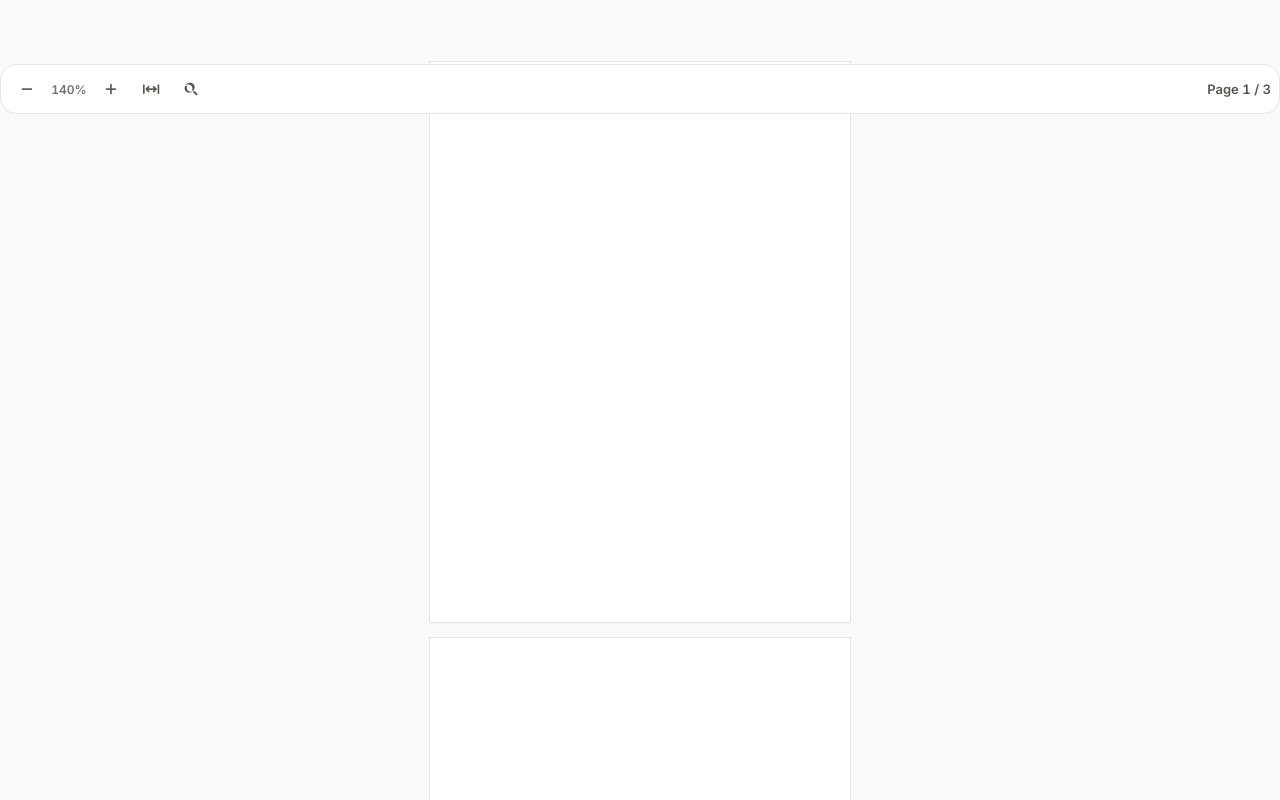
find in this paper (IR-353) › moves to the next match on Enter and back on Shift+Enter, wrapping at the ends
The width and height of the screenshot is (1280, 800).
Expected: the text "Page 1 / 3" is shown, [1207, 80, 1271, 98]
Step 1. Click the button named "Find in this paper" → [191, 89], box [173, 71, 209, 107]
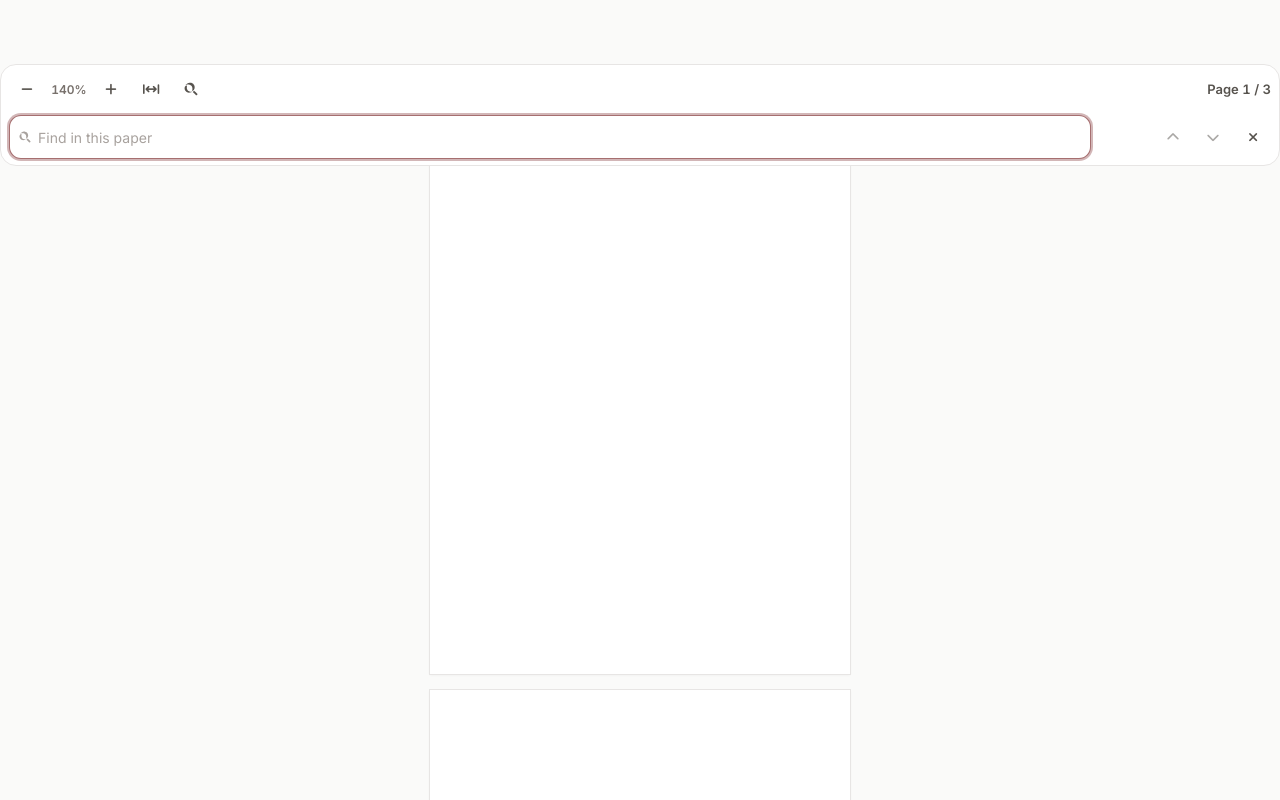
Step 2. Type "robot" into the search field labelled "Find in this paper" → [550, 137], box [9, 115, 1091, 159]
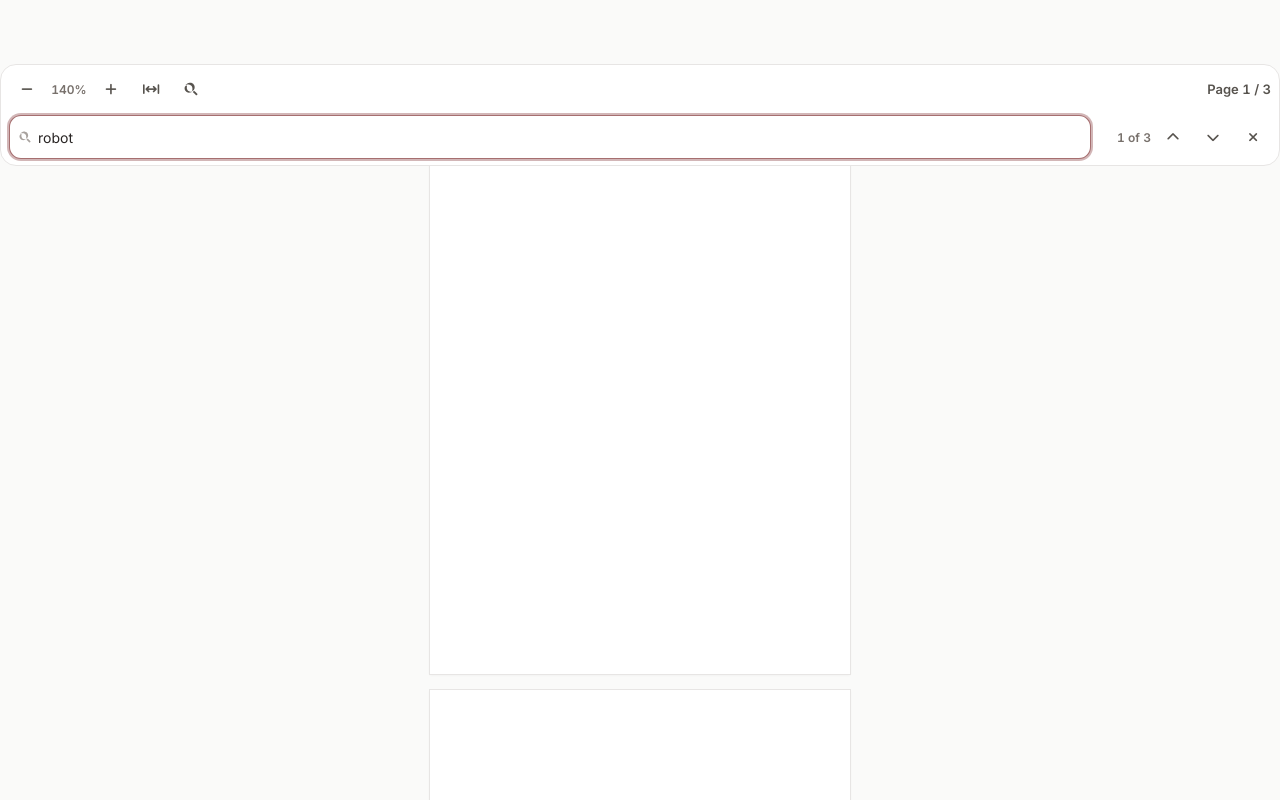
Now the message reads "1 of 3", box [1117, 130, 1151, 144]
Step 3. Press Enter
(page scrolled)
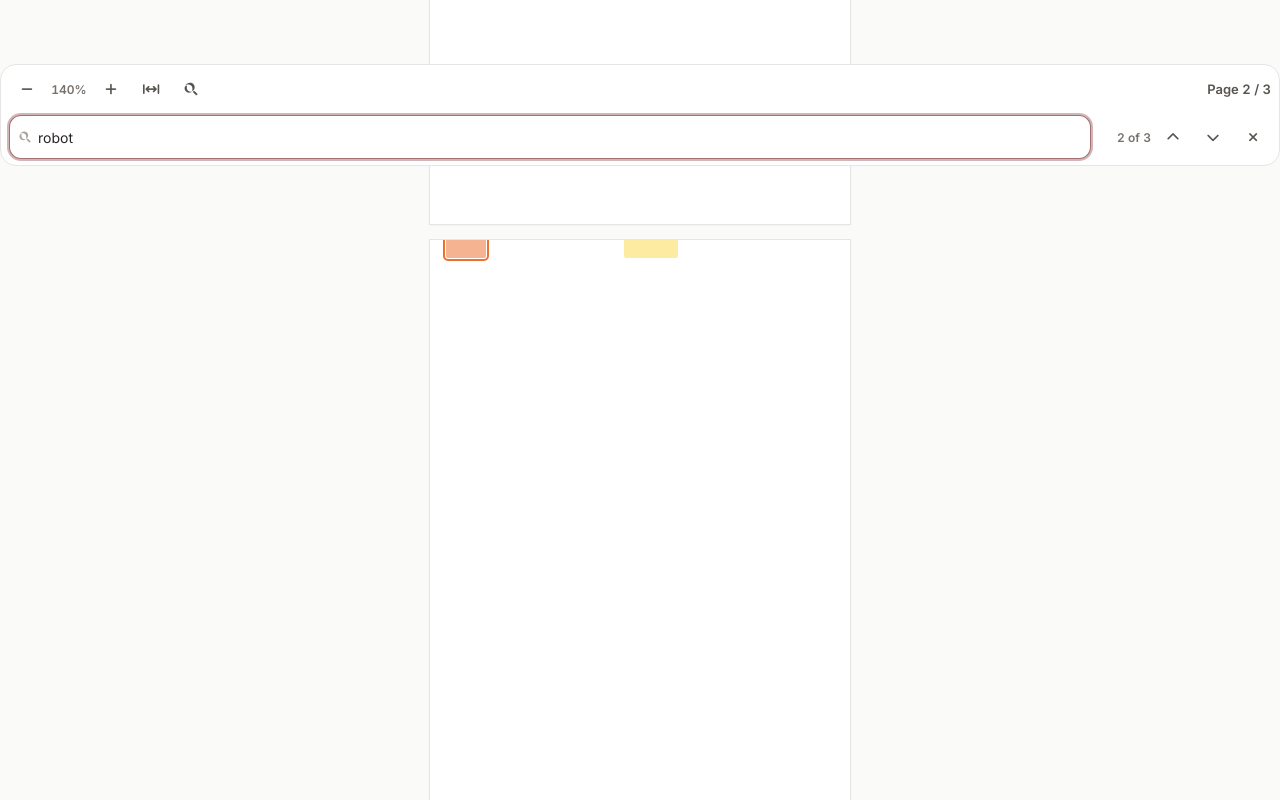
Now the message reads "2 of 3", box [1117, 130, 1151, 144]
Step 4. Press Enter Enter
(page scrolled)
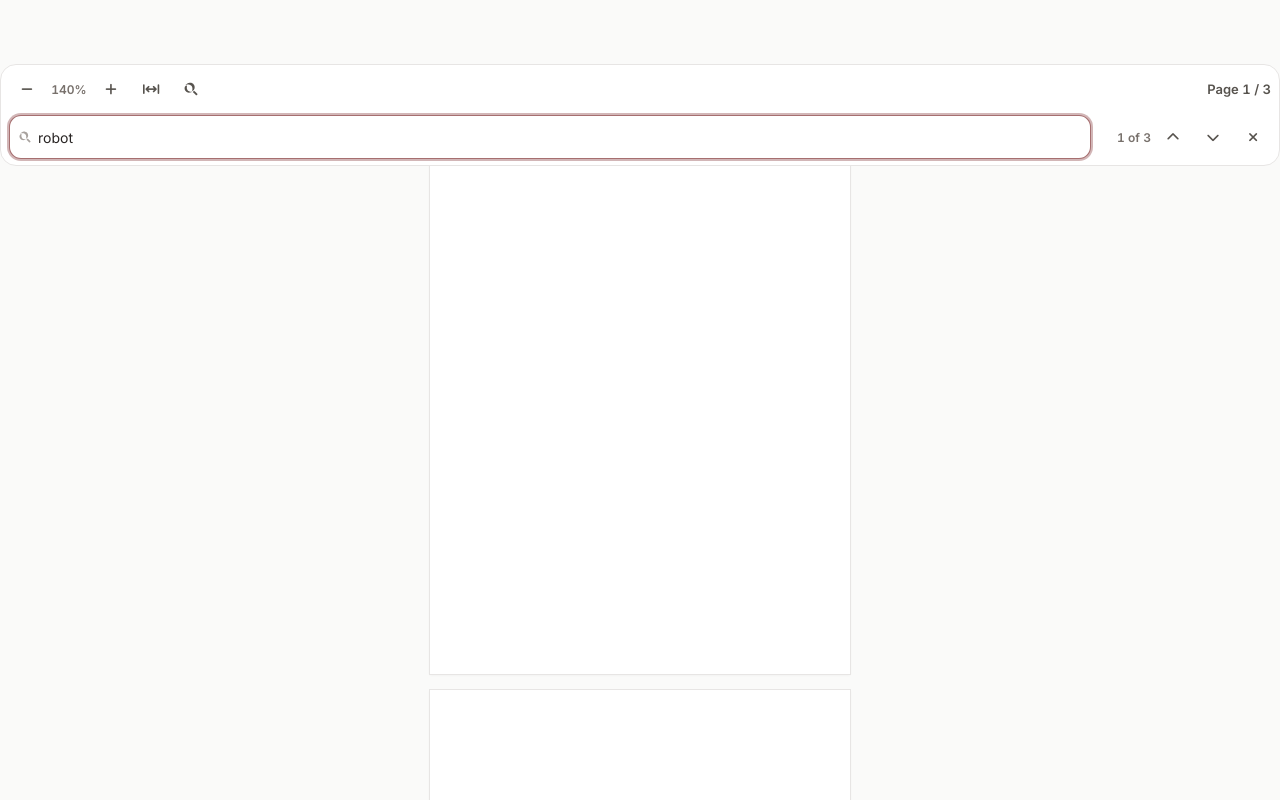
Now the message reads "1 of 3", box [1117, 130, 1151, 144]
Step 5. Type keys "{Shift>}{Enter}{/Shift}"
(page scrolled)
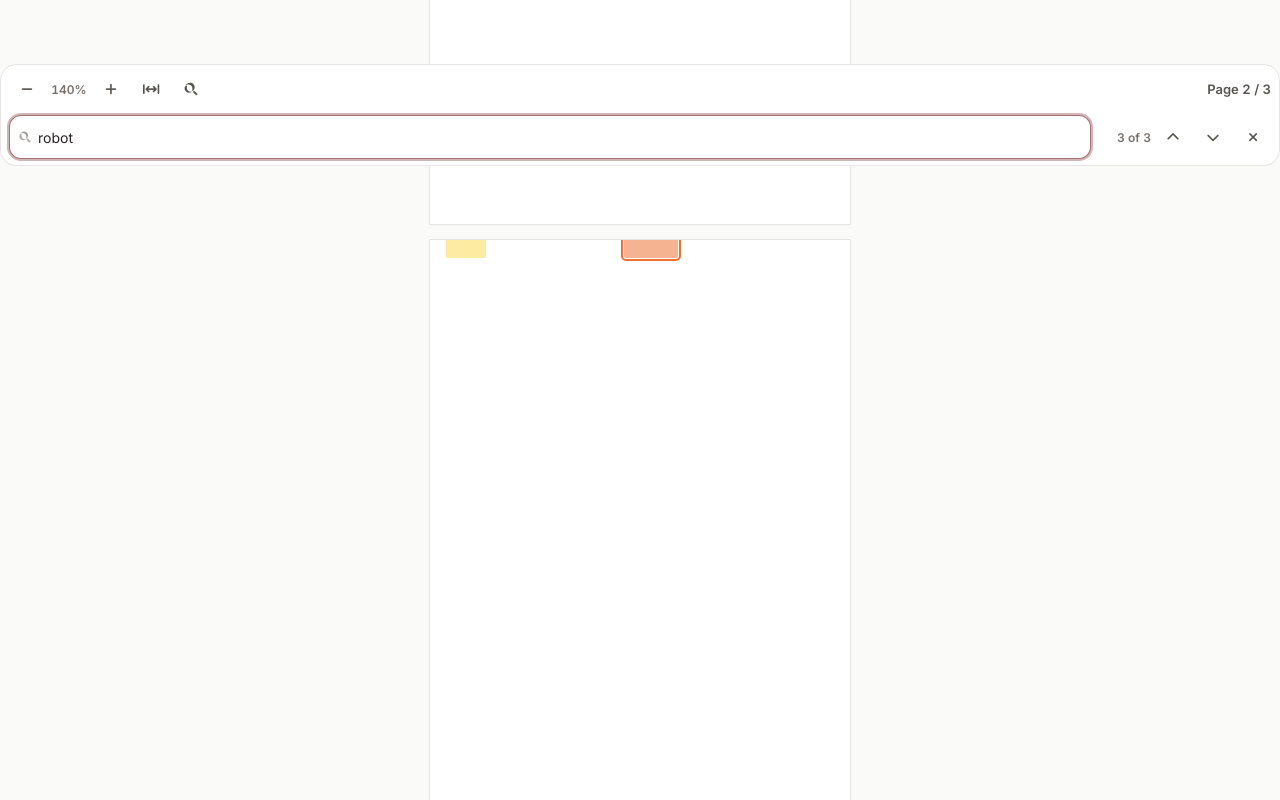
Now the message reads "3 of 3", box [1117, 130, 1151, 144]
